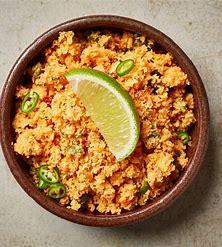Pol Sambol: (16, 6, 203, 228)
